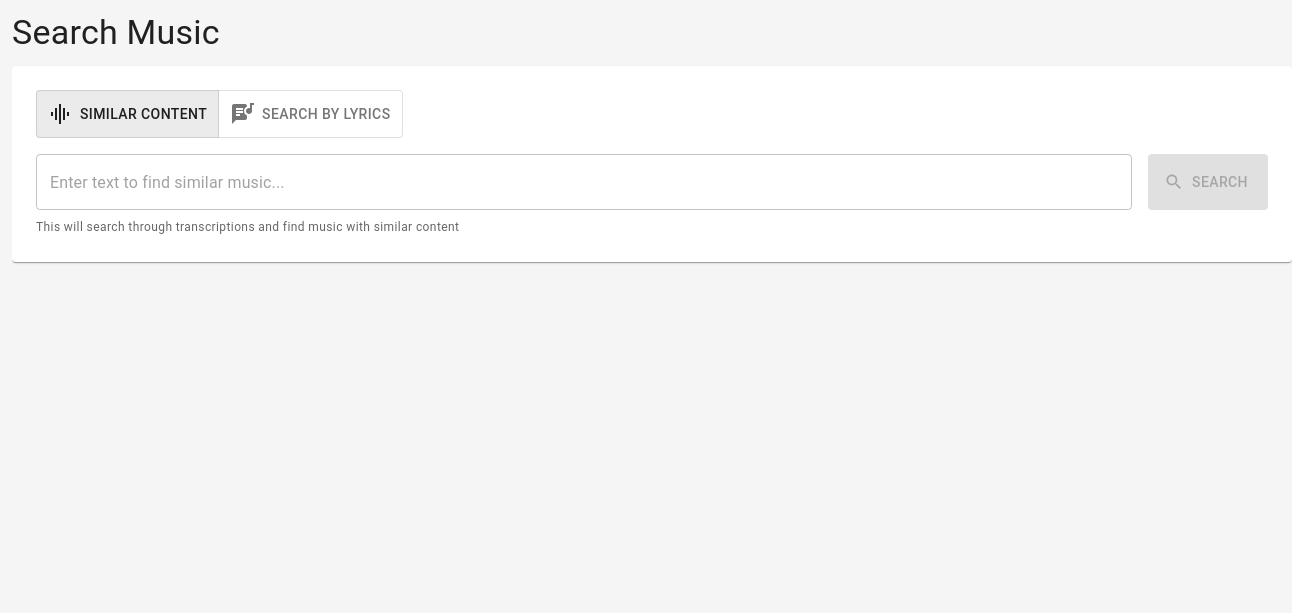
Test: SearchPage Component › displays search results with details
The image size is (1292, 613).
Type "test" into the field with placeholder "Enter text to find similar music...".
click(584, 182); type("test")  # box top-left (36, 154), bottom-right (1132, 210)
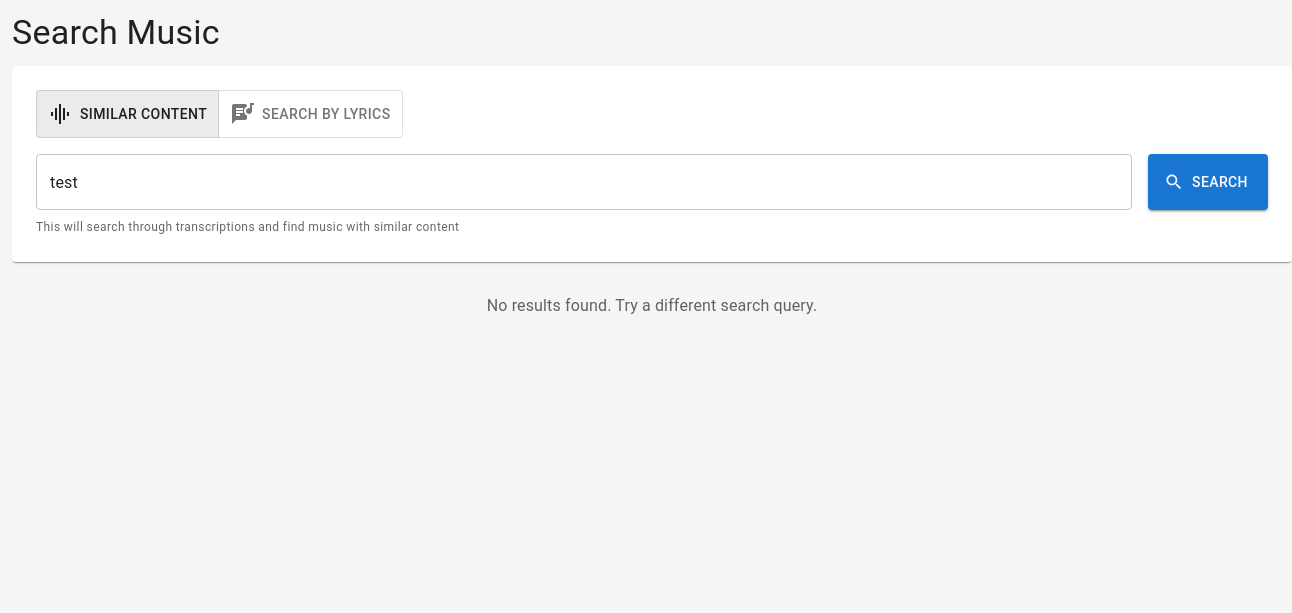
Click the button "Search".
click(1208, 182)  # box top-left (1148, 154), bottom-right (1268, 210)
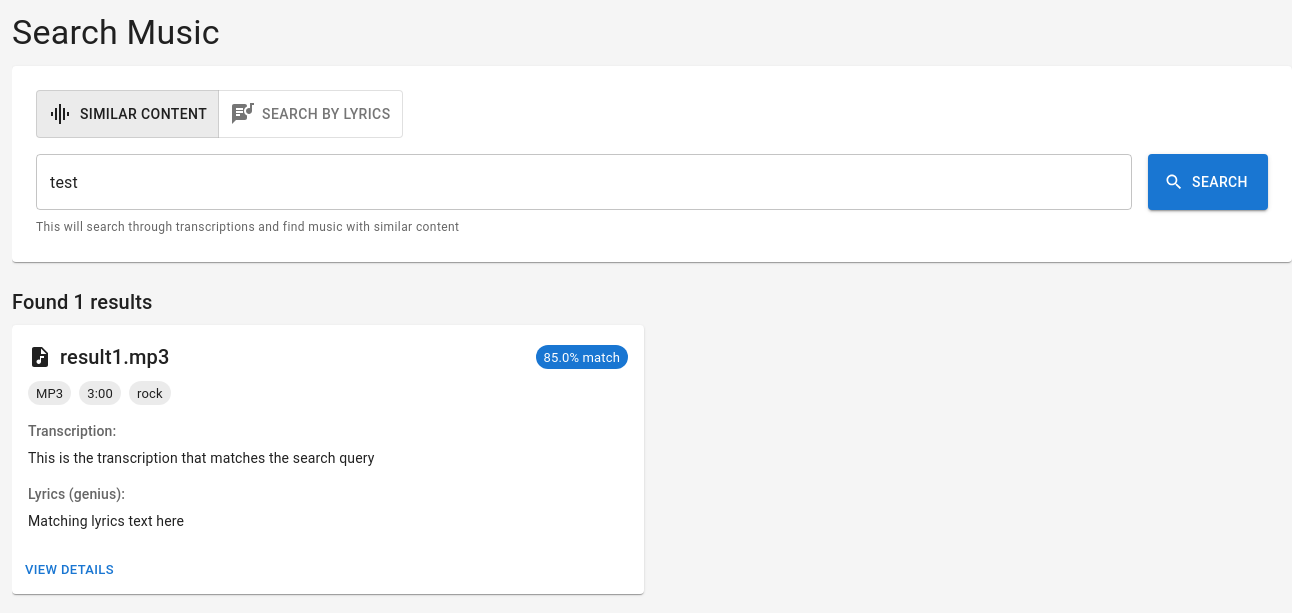
Expected: the text "MP3" is shown, top-left (36, 386), bottom-right (63, 400)
Expected: the text "3:00" is shown, top-left (87, 386), bottom-right (113, 400)
Expected: the text "rock" is shown, top-left (137, 386), bottom-right (163, 400)
